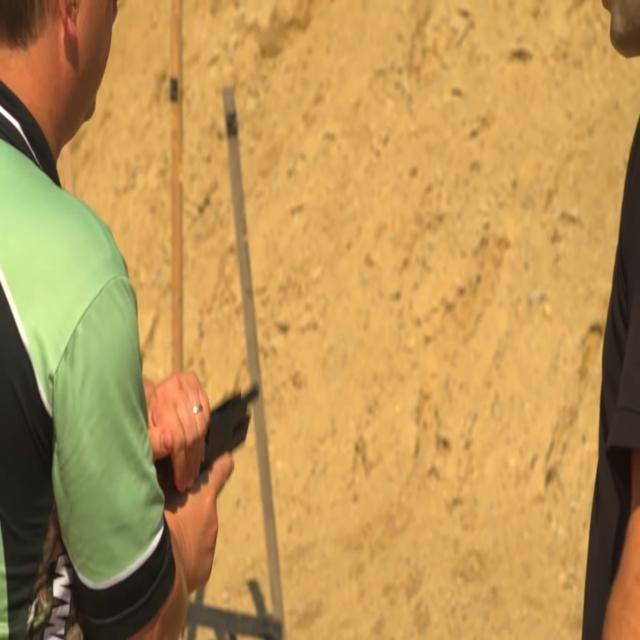Gun_Holder: (139, 352, 271, 516)
Person: (0, 0, 220, 640)
